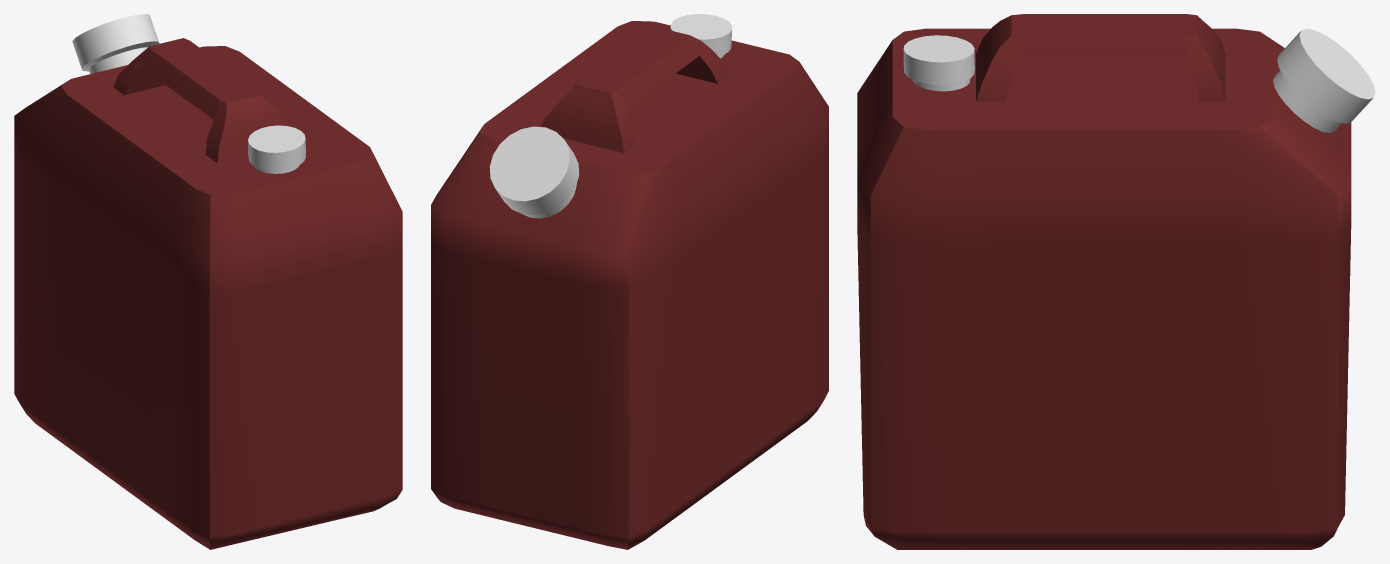
Rendered from Plastick_container.fbx.
3 views of the same model, side by side, from view 1: azimuth 30°, elevation 25°; view 2: azimuth 150°, elevation 25°; view 3: azimuth 270°, elevation 25° (orthographic). The views are drawn at different scales.
Parts seen in each view (by area): view 1: pCube1, pCylinder2, pCylinder3; view 2: pCube1, pCylinder2, pCylinder3; view 3: pCube1, pCylinder2, pCylinder3.
Part boxes in pixels (left/top/right/bottom): pCube1: left=14, top=38, right=402, bottom=549; pCylinder2: left=72, top=14, right=159, bottom=73; pCylinder3: left=248, top=125, right=305, bottom=173; pCube1: left=431, top=21, right=828, bottom=549; pCylinder2: left=489, top=126, right=579, bottom=218; pCylinder3: left=670, top=14, right=732, bottom=58; pCube1: left=857, top=14, right=1351, bottom=549; pCylinder2: left=1273, top=28, right=1375, bottom=133; pCylinder3: left=903, top=35, right=974, bottom=91.
Bounding box in the file's own units: 14.27 × 26.37 × 26.16.
